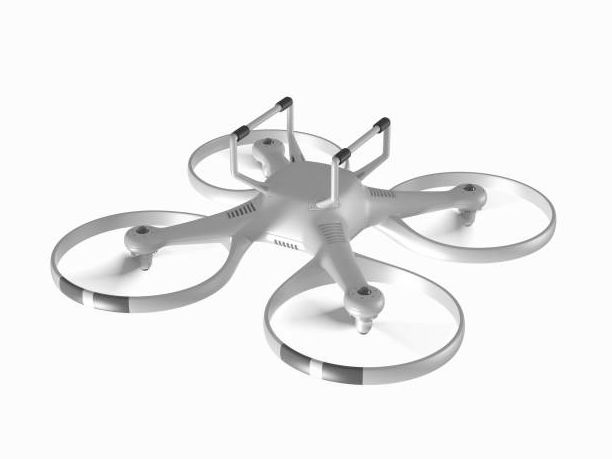Drone: (40, 79, 563, 396)
